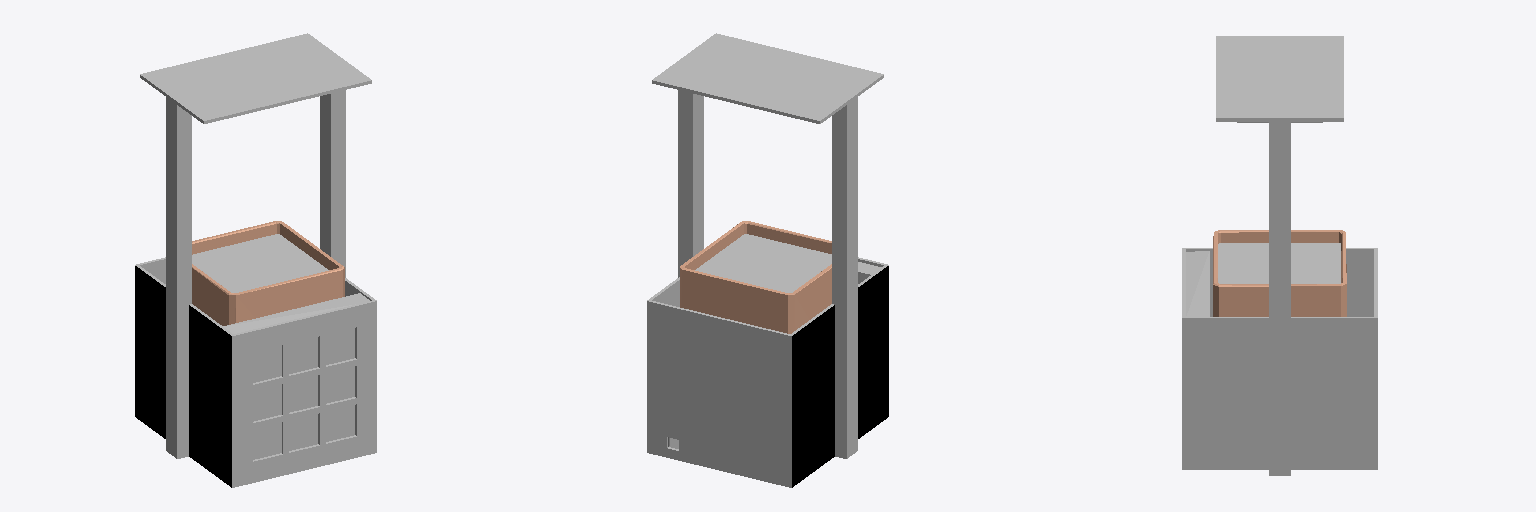
Rendered from verdoirmodel.obj.
The picture shows the model from 3 angles: view 1: azimuth 30°, elevation 25°; view 2: azimuth 150°, elevation 25°; view 3: azimuth 270°, elevation 25°; orthographic projection.
Parts seen in each view (by area): view 1: Fabrication_Planning_v9.009; view 2: Fabrication_Planning_v9.009; view 3: Fabrication_Planning_v9.009.
Part boxes in pixels (left/top/right/bottom): Fabrication_Planning_v9.009: left=135, top=33, right=376, bottom=487; Fabrication_Planning_v9.009: left=647, top=33, right=888, bottom=487; Fabrication_Planning_v9.009: left=1182, top=36, right=1377, bottom=475.
Size of the model in its own units: 38.55 by 78.26 by 38.78.